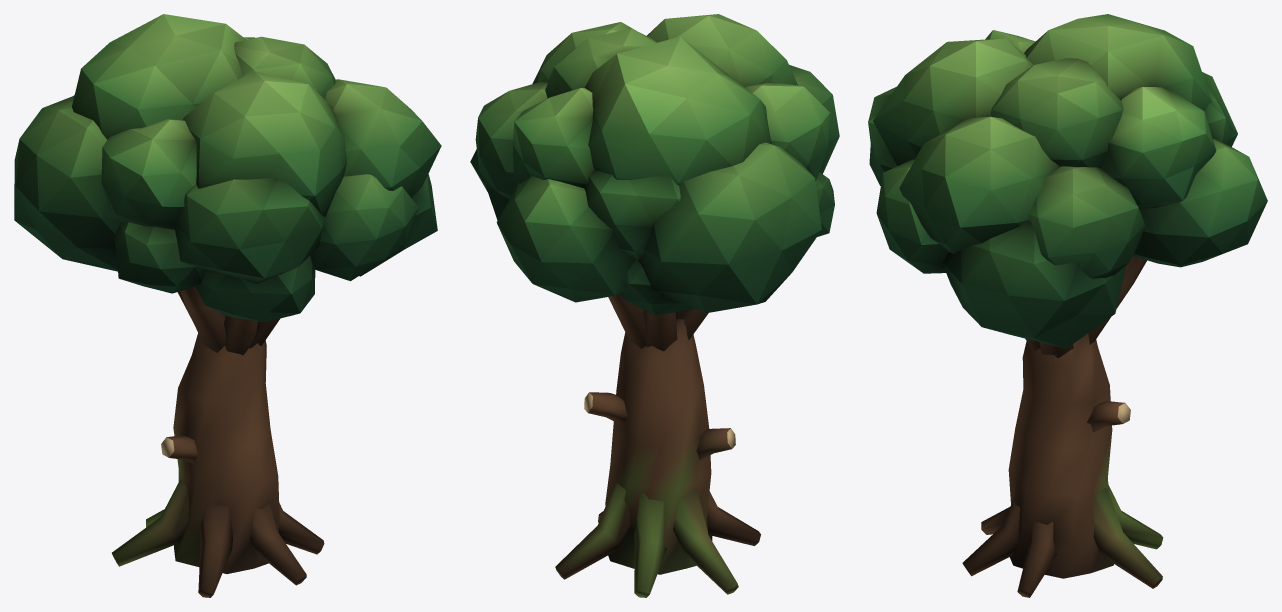
The model's file is tree-big.glb.
The picture shows the model from 3 angles, left to right: view 1: azimuth 30°, elevation 25°; view 2: azimuth 150°, elevation 25°; view 3: azimuth 270°, elevation 25°; orthographic projection.
Parts seen in each view (by area): view 1: 1_leaves.012, 0_trunk.012; view 2: 1_leaves.012, 0_trunk.012; view 3: 1_leaves.012, 0_trunk.012.
Part boxes in pixels (box(x1,y1,x2,y2)): 1_leaves.012: box(14, 14, 441, 322); 0_trunk.012: box(112, 287, 324, 597); 1_leaves.012: box(470, 14, 839, 315); 0_trunk.012: box(555, 294, 760, 597); 1_leaves.012: box(868, 14, 1267, 348); 0_trunk.012: box(962, 256, 1163, 597).
Bounding box in the file's own units: 6.31 × 8.59 × 5.93.
